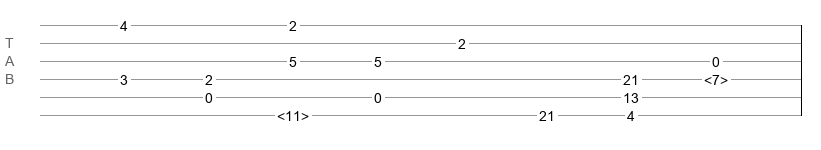0: (205, 90, 213, 100), (374, 90, 382, 100), (712, 54, 720, 64)
13: (623, 90, 639, 100)
2: (205, 72, 213, 82), (289, 18, 297, 28), (458, 36, 466, 46)
21: (539, 108, 555, 118), (623, 72, 639, 82)
3: (120, 72, 128, 82)
4: (120, 18, 128, 28), (627, 108, 635, 118)
5: (289, 54, 297, 64), (374, 54, 382, 64)
harmonic: (277, 108, 309, 118), (704, 72, 728, 82)
